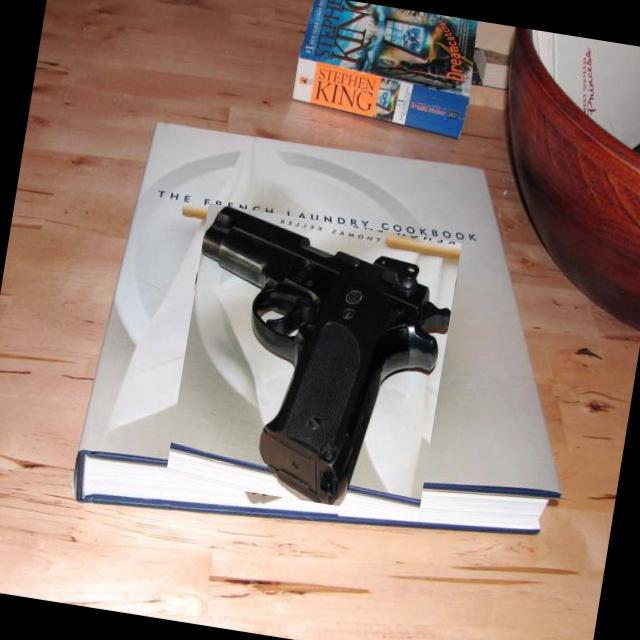Gun: (203, 207, 450, 505)
